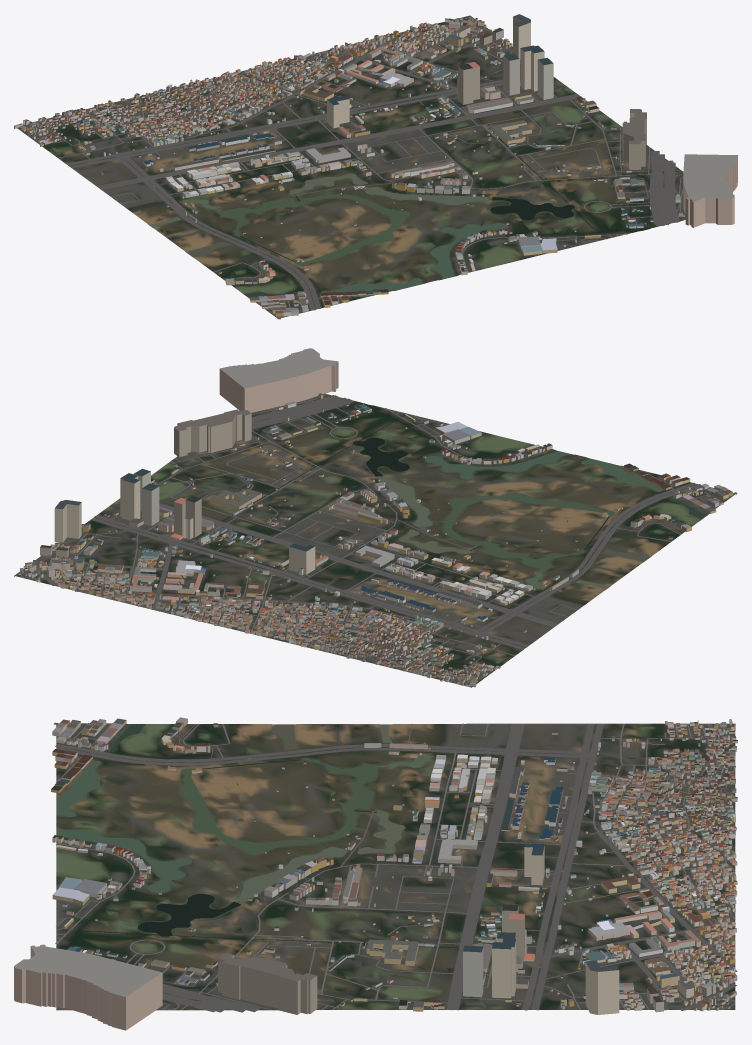
3 renders of one model, top to bottom at view 1: azimuth 30°, elevation 25°; view 2: azimuth 150°, elevation 25°; view 3: azimuth 270°, elevation 25°, orthographic. The views are drawn at different scales.
Visible parts, largest first — view 1: ground, buildings, roads, water; view 2: ground, buildings, roads, water; view 3: ground, buildings, roads, water.
Boxes of the visible parts, box(x1,y1,x2,y2) form: ground: box(17, 15, 685, 317); buildings: box(14, 14, 737, 316); roads: box(22, 17, 684, 319); water: box(150, 113, 647, 297); ground: box(14, 393, 736, 687); buildings: box(18, 348, 732, 687); roads: box(19, 394, 737, 685); water: box(214, 403, 706, 589); ground: box(56, 723, 735, 1010); buildings: box(14, 717, 737, 1030); roads: box(53, 722, 737, 1012); water: box(57, 724, 458, 949).
Bounding box in the file's own units: 1509 × 117 × 1495.
